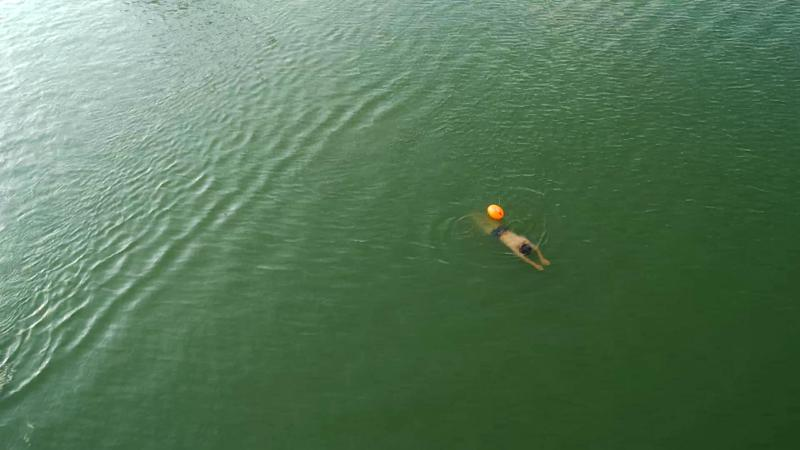swimmers: (472, 213, 551, 273)
